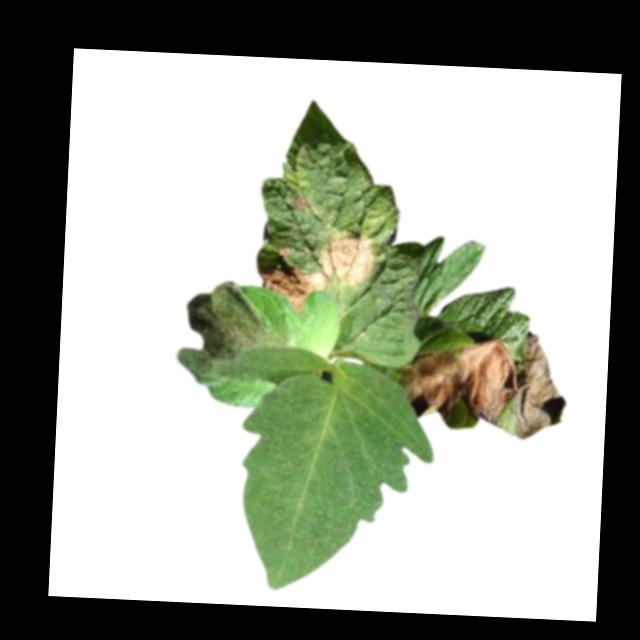Late_blight: (394, 326, 570, 442), (175, 278, 293, 386), (257, 227, 376, 317), (294, 193, 312, 206)
